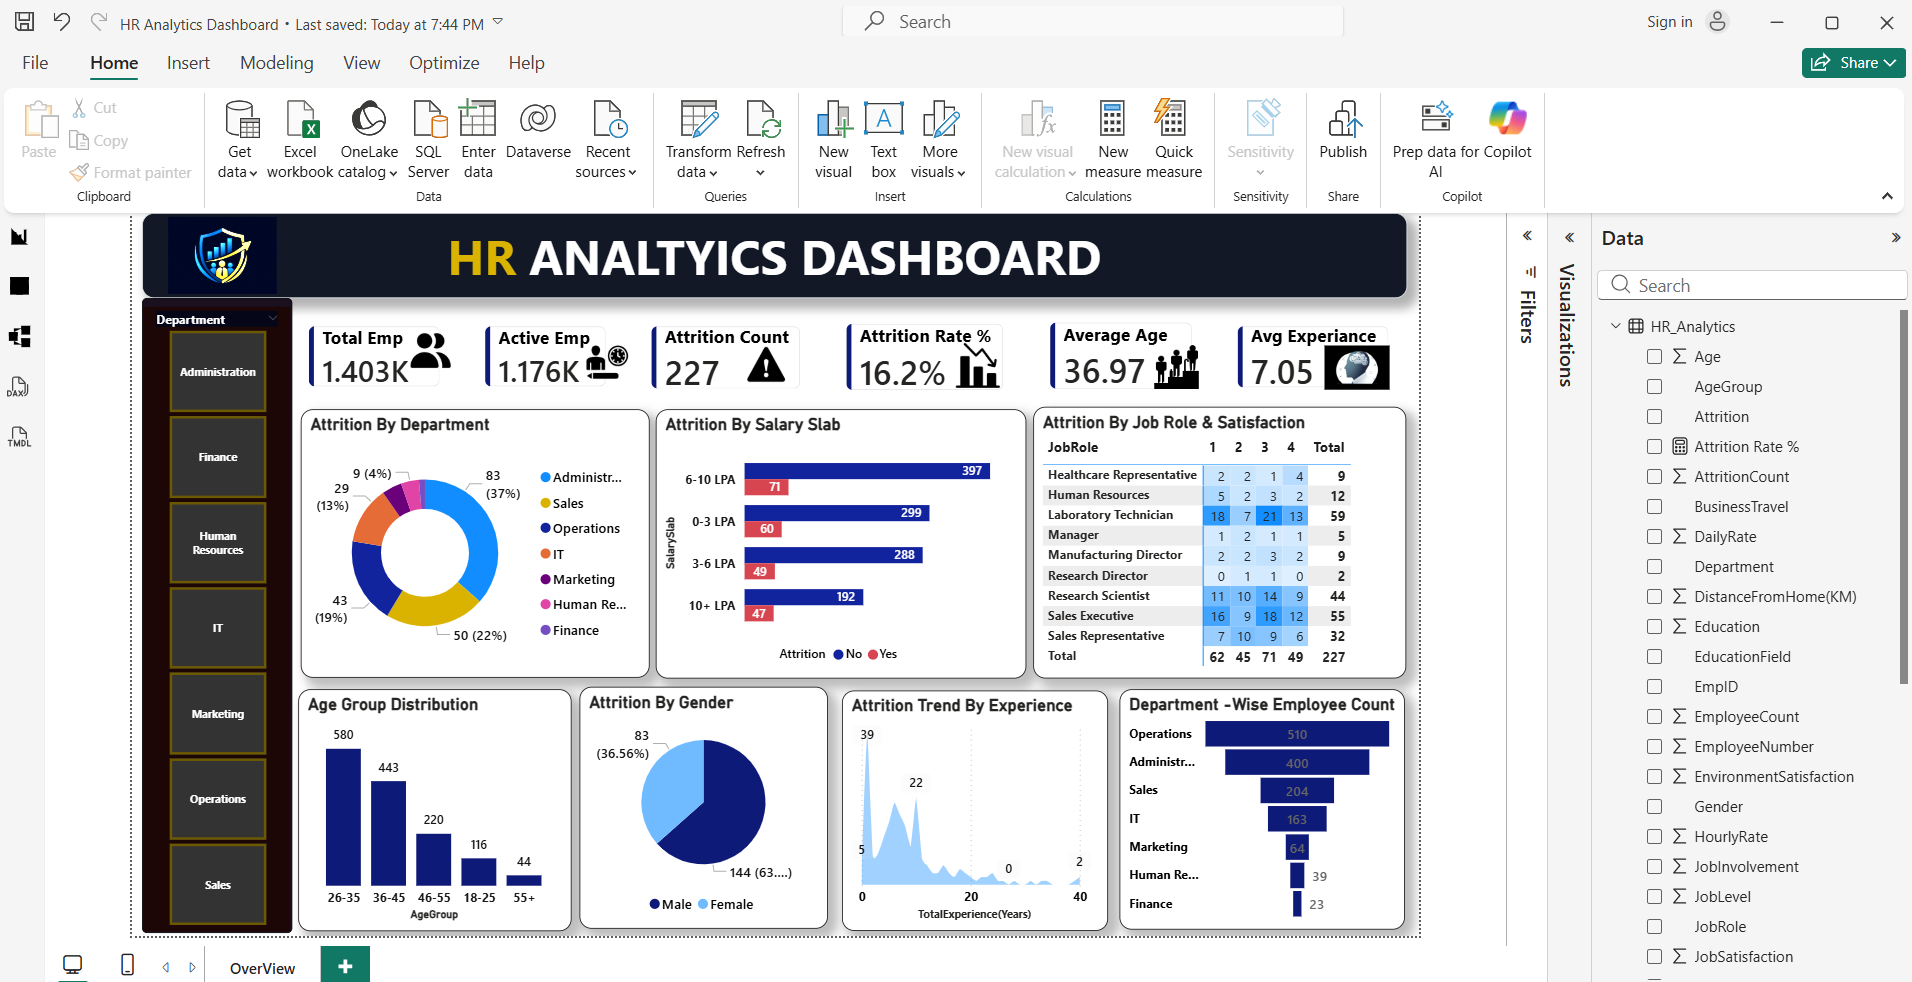

This screenshot's page, from the dashboard's own definition file:
{"tool":"powerbi","page":{"name":"OverView","canvas":[1280,720],"ordinal":0},"visuals":[{"type":"textbox","box":[10,0,1259,85],"z":0},{"type":"textbox","box":[9.4,84.7,149.3,632.1],"z":1000},{"type":"image","box":[10.8,4,157.3,76.7],"z":2000},{"type":"cardVisual","title":"Total Transaction","fields":{"Data":["CountNonNull(HR_Analytics-4.EmpID)"]},"box":[159.2,96.1,164.7,94.7],"z":3000},{"type":"cardVisual","title":"Total Transaction","fields":{"Data":["CountNonNull(HR_Analytics-4.EmployeeCount)"]},"box":[334.9,95.5,154.7,94.1],"z":4000},{"type":"cardVisual","title":"Total Transaction","fields":{"Data":["Sum(HR_Analytics-4.AttritionCount)"]},"box":[500.3,95.5,182.9,96.8],"z":5000},{"type":"cardVisual","title":"Total Transaction","fields":{"Data":["HR_Analytics-4.Attrition Rate %"]},"box":[694.6,93.3,190.7,100.2],"z":6000},{"type":"cardVisual","title":"Total Transaction","fields":{"Data":["Avg(HR_Analytics-4.Age)"]},"box":[896.9,91.9,175.6,100.2],"z":7000},{"type":"cardVisual","title":"Total Transaction","fields":{"Data":["Avg(HR_Analytics-4.YearsatCompany)"]},"box":[1083.9,95.5,184.2,95.5],"z":8000},{"type":"image","box":[273,117,49.8,40.3],"z":9000},{"type":"image","box":[445.1,126.4,55.1,43],"z":10000},{"type":"image","box":[607.9,131.8,45.7,37.7],"z":11000},{"type":"image","box":[820.3,126.4,44.4,49.8],"z":12000},{"type":"image","box":[1015.3,126.4,48.4,52.4],"z":13000},{"type":"image","box":[1186.1,131.8,64.6,44.4],"z":14000},{"type":"donutChart","title":"Attrition By Department","fields":{"Category":["HR_Analytics-4.Department"],"Y":["Sum(HR_Analytics-4.AttritionCount)"]},"box":[167.9,195.3,347.1,267.5],"z":15000},{"type":"clusteredBarChart","title":"Attrition By Salary Slab","fields":{"Category":["HR_Analytics-4.SalarySlab"],"Y":["CountNonNull(HR_Analytics-4.EmpID)"],"Series":["HR_Analytics-4.Attrition"]},"box":[521.8,195,368.5,267.6],"z":16000},{"type":"pivotTable","title":"Attrition By Job Role & Satisfaction","fields":{"Rows":["HR_Analytics-4.JobRole"],"Values":["Sum(HR_Analytics-4.AttritionCount)"],"Columns":["HR_Analytics-4.JobSatisfaction"]},"box":[897,192.3,371.2,270.3],"z":17000},{"type":"columnChart","title":"Age Group Distribution","fields":{"Category":["HR_Analytics-4.AgeGroup"],"Y":["Sum(HR_Analytics-4.EmployeeCount)"]},"box":[166,473.6,271.7,240.7],"z":18000},{"type":"pieChart","title":"Attrition By Gender","fields":{"Category":["HR_Analytics-4.Gender"],"Y":["Sum(HR_Analytics-4.AttritionCount)"]},"box":[445.1,472,247.4,240.7],"z":19000},{"type":"areaChart","title":"Attrition Trend By Experience","fields":{"Category":["HR_Analytics-4.TotalExperience(Years)"],"Y2":["Sum(HR_Analytics-4.AttritionCount)"]},"box":[706,474.7,264.9,239.4],"z":20000},{"type":"funnel","title":"Department -Wise Employee Count","fields":{"Category":["HR_Analytics-4.Department"],"Y":["CountNonNull(HR_Analytics-4.EmpID)"]},"box":[982.3,473.6,283.8,239.4],"z":21000},{"type":"slicer","fields":{"Values":["HR_Analytics-4.Department"]},"box":[10.8,92.8,146.6,621.3],"z":22000}]}

Visuals, with their boxes on the page's 1280x720 design canvas (x1, y1, x2, y2). These are canvas units, not pixel positions in the 1912x982 screenshot, which may show the page scaled, cropped or inside an application window:
textbox: (10,0,1269,85)
textbox: (9,85,159,717)
image: (11,4,168,81)
"Total Transaction" cardVisual: (159,96,324,191)
"Total Transaction" cardVisual: (335,96,490,190)
"Total Transaction" cardVisual: (500,96,683,192)
"Total Transaction" cardVisual: (695,93,885,194)
"Total Transaction" cardVisual: (897,92,1072,192)
"Total Transaction" cardVisual: (1084,96,1268,191)
image: (273,117,323,157)
image: (445,126,500,169)
image: (608,132,654,170)
image: (820,126,865,176)
image: (1015,126,1064,179)
image: (1186,132,1251,176)
"Attrition By Department" donutChart: (168,195,515,463)
"Attrition By Salary Slab" clusteredBarChart: (522,195,890,463)
"Attrition By Job Role & Satisfaction" pivotTable: (897,192,1268,463)
"Age Group Distribution" columnChart: (166,474,438,714)
"Attrition By Gender" pieChart: (445,472,692,713)
"Attrition Trend By Experience" areaChart: (706,475,971,714)
"Department -Wise Employee Count" funnel: (982,474,1266,713)
slicer - HR_Analytics-4.Department: (11,93,157,714)
